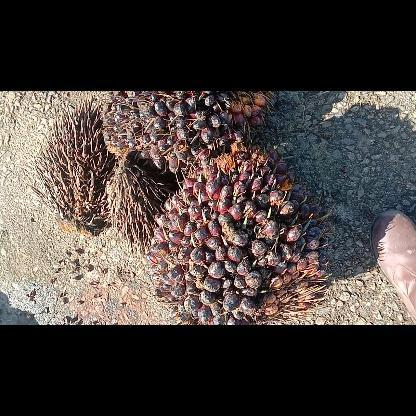Janjang kosong: (31, 91, 115, 237), (100, 159, 166, 255)
TBS mentah: (144, 142, 332, 324), (103, 91, 273, 173)
